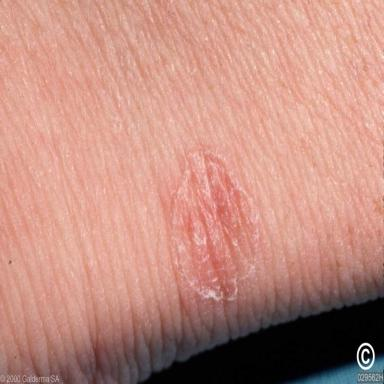Porokeratosis: (173, 151, 258, 300)
